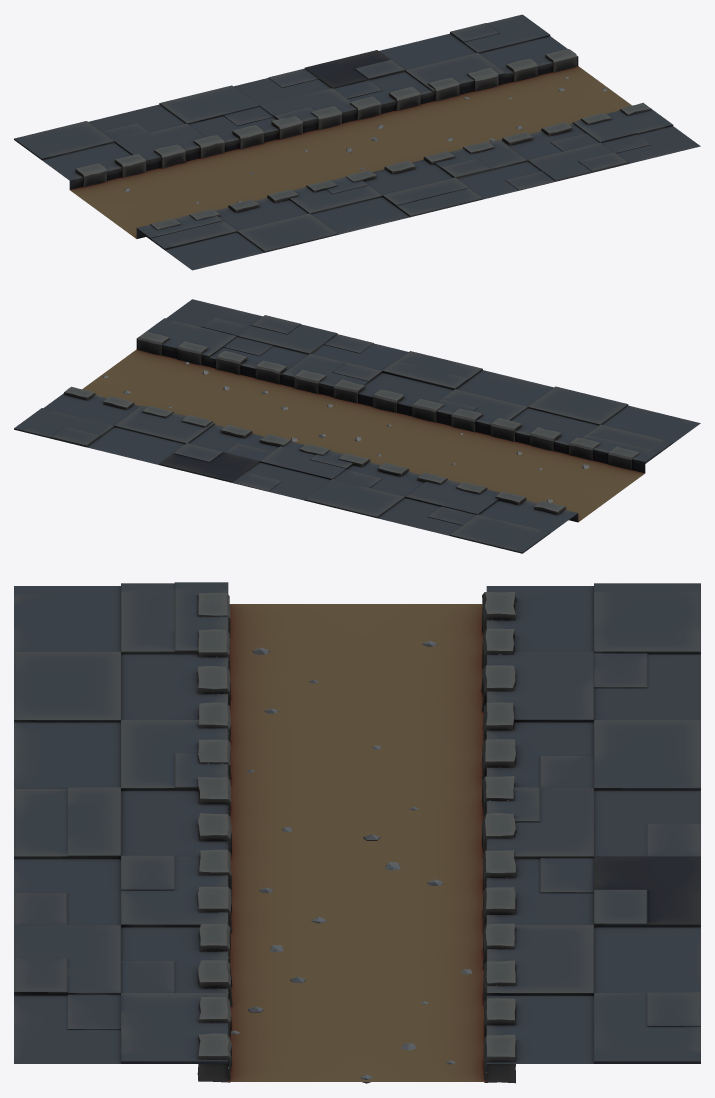
File: yerT1.fbx
3 renders of one model, top to bottom at view 1: azimuth 30°, elevation 25°; view 2: azimuth 150°, elevation 25°; view 3: azimuth 270°, elevation 25°, orthographic. The views are drawn at different scales.
Parts seen in each view (by area): view 1: Plane.004; view 2: Plane.004; view 3: Plane.004.
Boxes of the visible parts, x1,y1,x2,y2 form: Plane.004: [14, 14, 700, 270]; Plane.004: [14, 299, 700, 553]; Plane.004: [14, 582, 700, 1083].
Bounding box in the file's own units: 2197 × 74.57 × 1335.
Materials: 1 (1 with a texture image).
